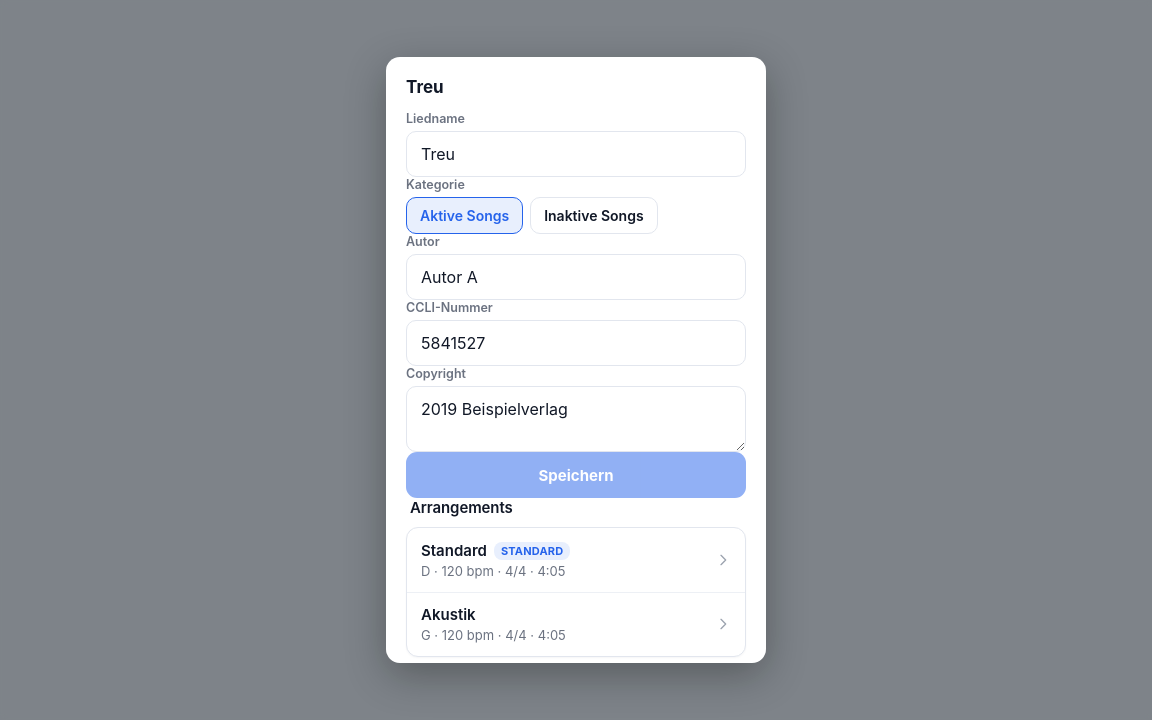
Test: EditSongSheet – nur Geändertes schicken › zeigt die Meldung des Servers und schließt NICHT
The width and height of the screenshot is (1152, 720).
Replace the text in the field with placeholder "Titel des Liedes" below "Liedname" with "Treu (neu)" at coordinates (576, 154), box [406,131,746,177]
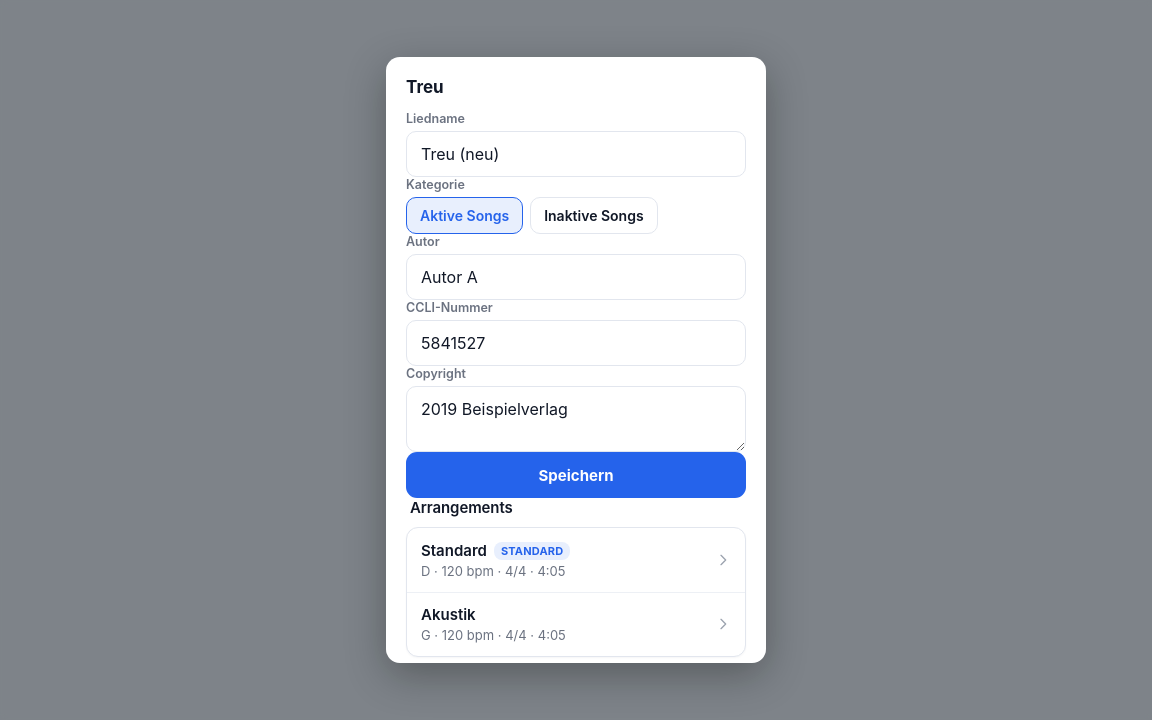
Click the button "Speichern" at coordinates (576, 475), box [406,452,746,498]
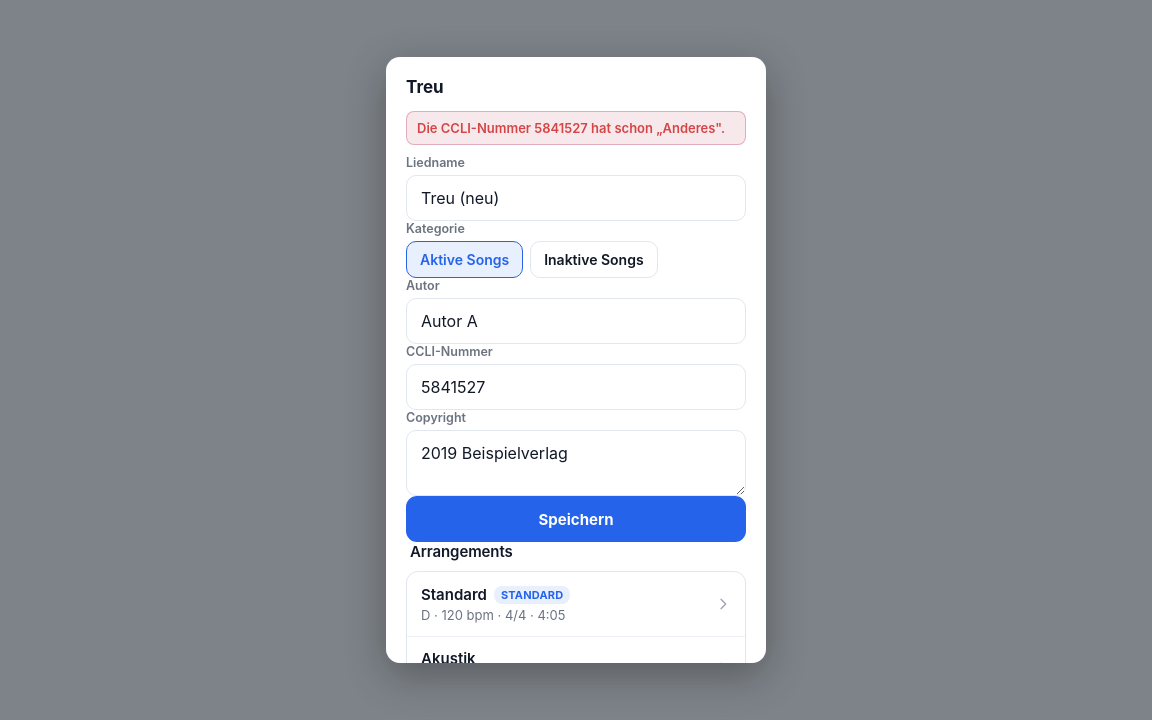
Check: the text "Die CCLI-Nummer 5841527 hat schon „Anderes\"." is shown, box [406,111,746,145]
